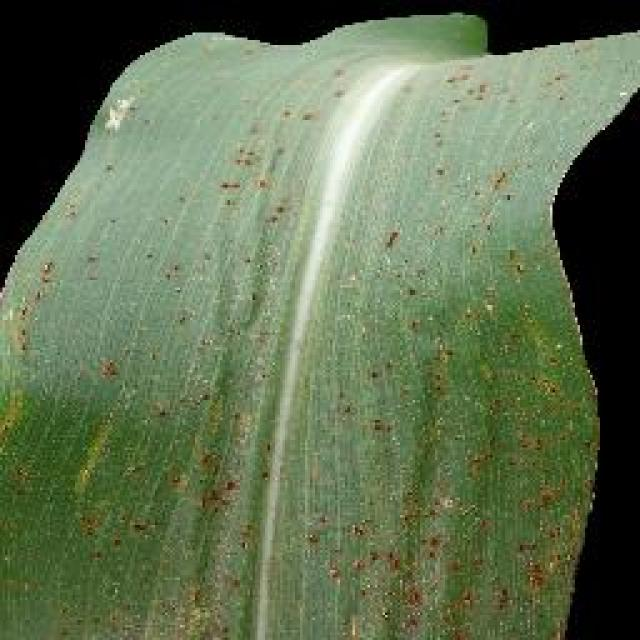Corn Common Rust: (153, 120, 630, 640)
